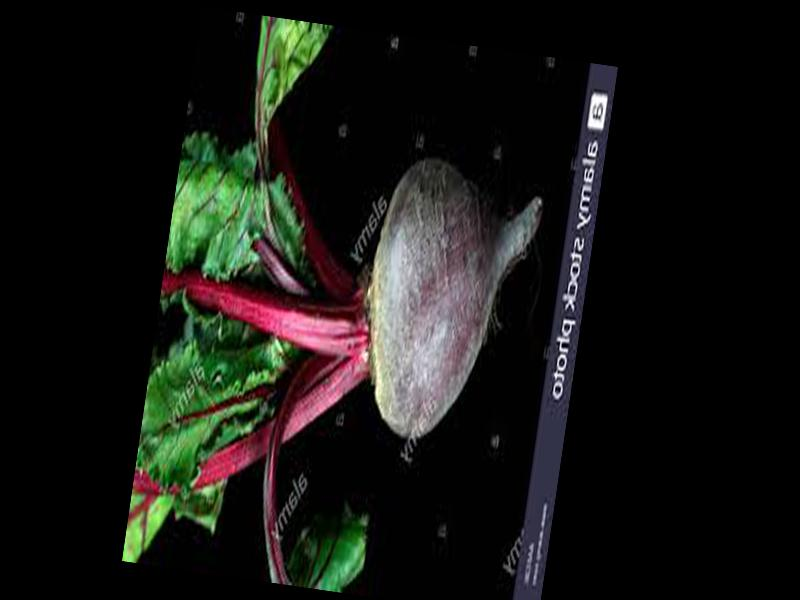Beet: (123, 10, 562, 600)
